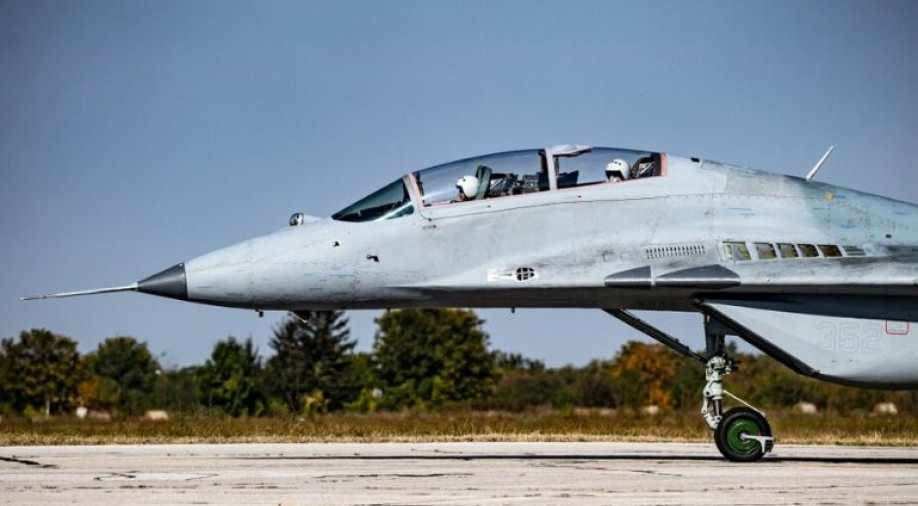Mig-29: (104, 73, 908, 467)
